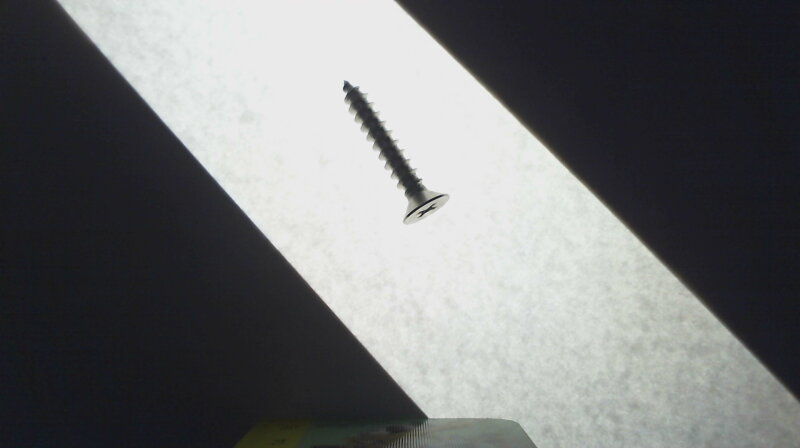S001: (341, 79, 452, 225)
